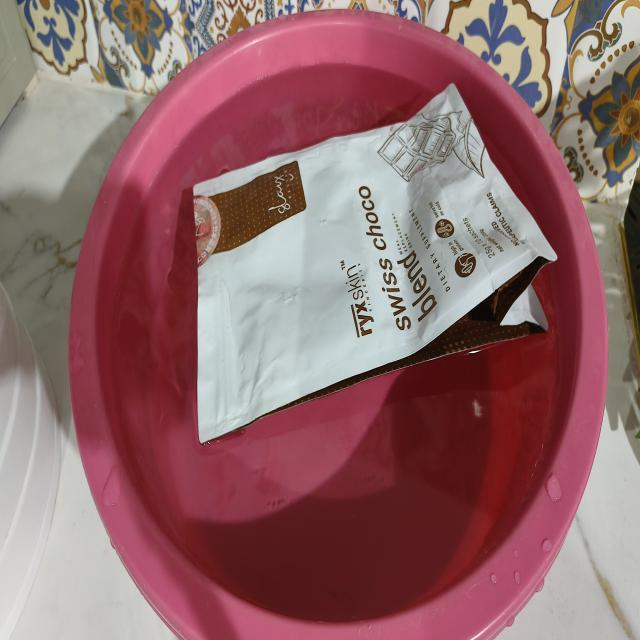Plastic Pouch: (193, 84, 557, 442)
